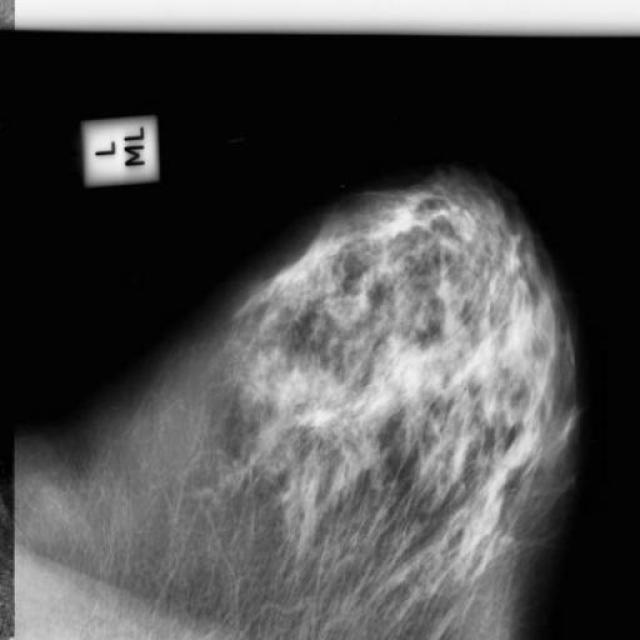cancer: (280, 457, 330, 525)
